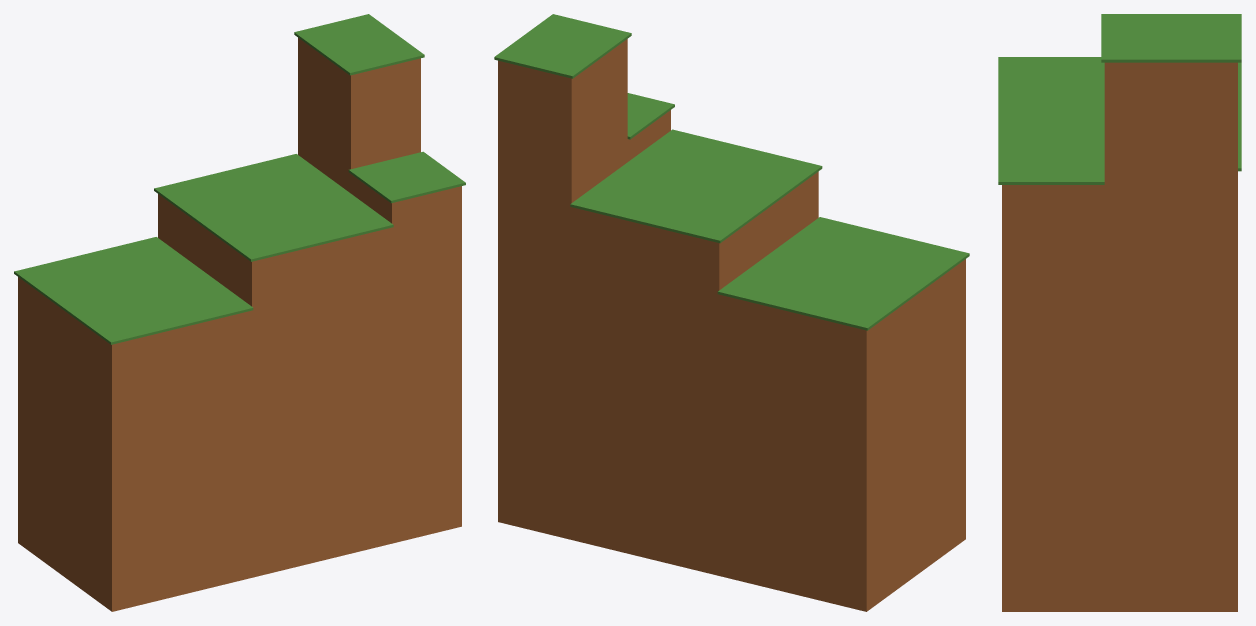
File: O_SPlatform5.glb
3 views of the same model, side by side, from view 1: azimuth 30°, elevation 25°; view 2: azimuth 150°, elevation 25°; view 3: azimuth 270°, elevation 25° (orthographic). The views are drawn at different scales.
Visible parts, largest first — view 1: SPlatform5; view 2: SPlatform5; view 3: SPlatform5.
Part boxes in pixels (box(x1,y1,x2,y2)): SPlatform5: box(14, 14, 465, 611); SPlatform5: box(494, 14, 969, 611); SPlatform5: box(998, 14, 1241, 611).
Size of what is drawn, in the model's own units: 15.2 by 18.1 by 7.2.
